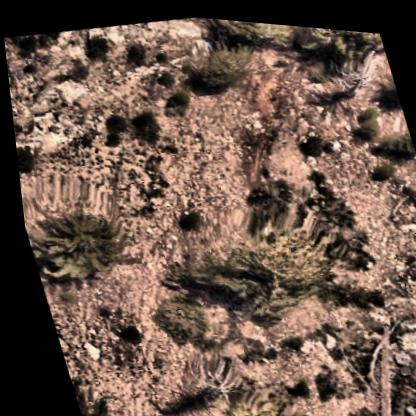tree-top: (141, 199, 315, 343), (20, 204, 120, 295), (287, 20, 391, 85), (174, 33, 255, 101), (183, 376, 290, 416)
